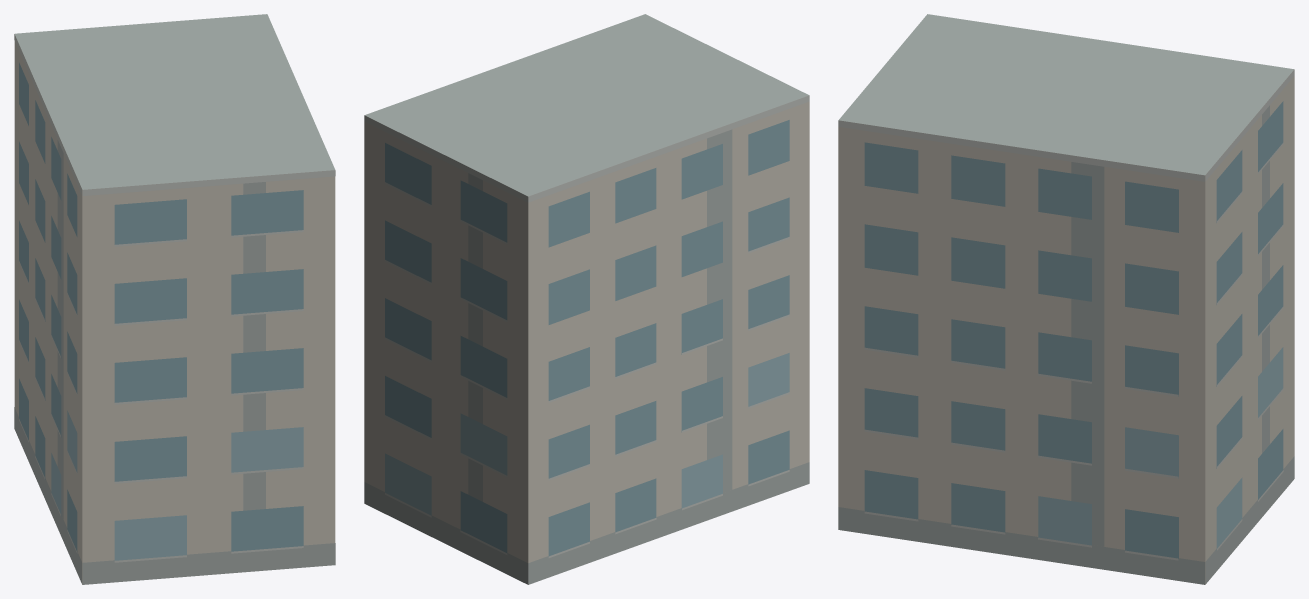
File: residential-5b6e67c3-7668-413f-95b1-c6d96f238b99.glb
3 renders of one model, left to right at view 1: azimuth 30°, elevation 25°; view 2: azimuth 150°, elevation 25°; view 3: azimuth 270°, elevation 25°, orthographic. The views are drawn at different scales.
Parts seen in each view (by area): view 1: residential-5b6e67c3-7668-413f-95b1-c6d96f238b99.tmp; view 2: residential-5b6e67c3-7668-413f-95b1-c6d96f238b99.tmp; view 3: residential-5b6e67c3-7668-413f-95b1-c6d96f238b99.tmp.
Boxes of the visible parts, x1,y1,x2,y2 form: residential-5b6e67c3-7668-413f-95b1-c6d96f238b99.tmp: (14, 14, 335, 584); residential-5b6e67c3-7668-413f-95b1-c6d96f238b99.tmp: (364, 14, 809, 584); residential-5b6e67c3-7668-413f-95b1-c6d96f238b99.tmp: (838, 14, 1294, 584).
Size of the model in its own units: 12.9 by 15.25 by 15.41.
